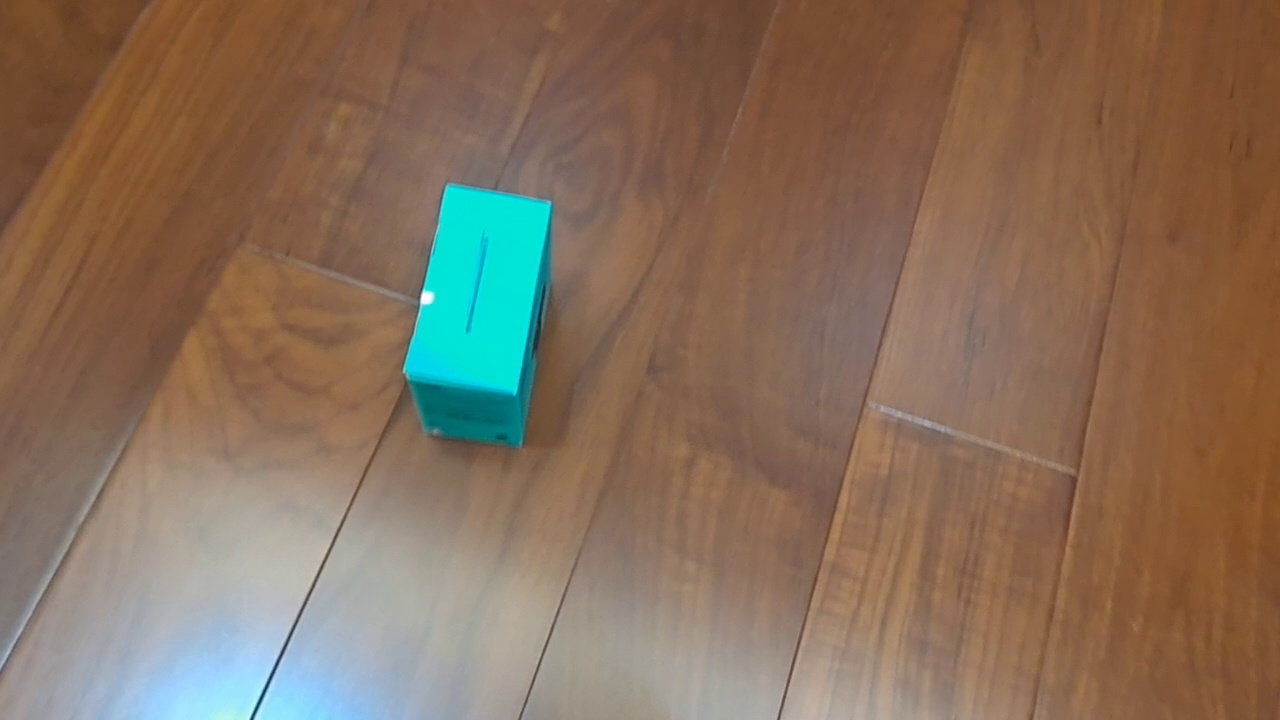webcam: (401, 182, 553, 450)
